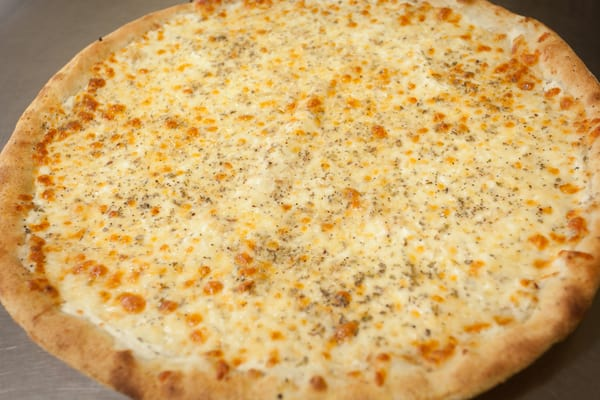sandwich: (1, 0, 598, 393)
